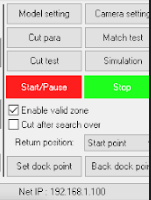start: (6, 75, 82, 97)
